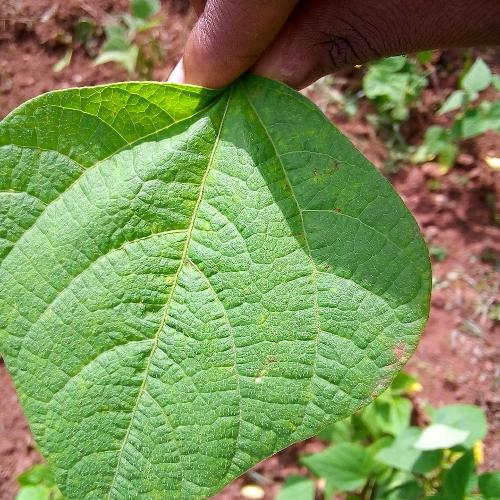hawar: (299, 156, 352, 218), (382, 337, 414, 372)
mozaik: (217, 258, 350, 396), (88, 228, 197, 334), (55, 373, 204, 433)
